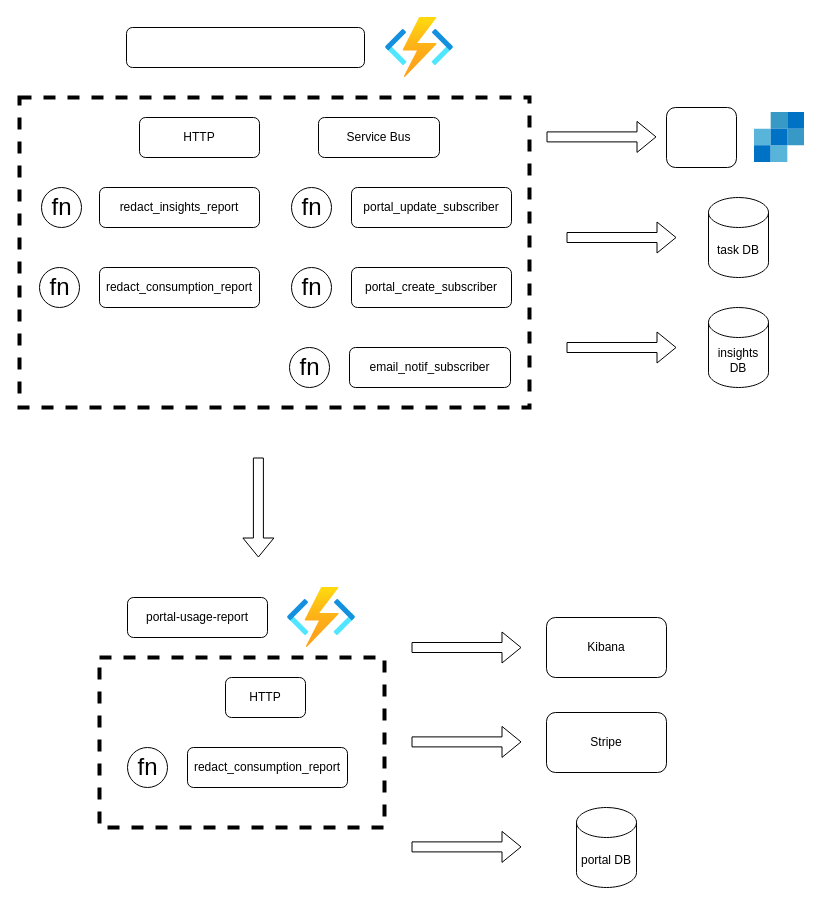
Image size: 821x905. Some labels were removed from this diagram. The centre of each missing label's shape, as x and y in pixels:
"redact-usage-report-function-app" belongs at (x=245, y=47).
"Sendgrid" belongs at (x=701, y=137).
